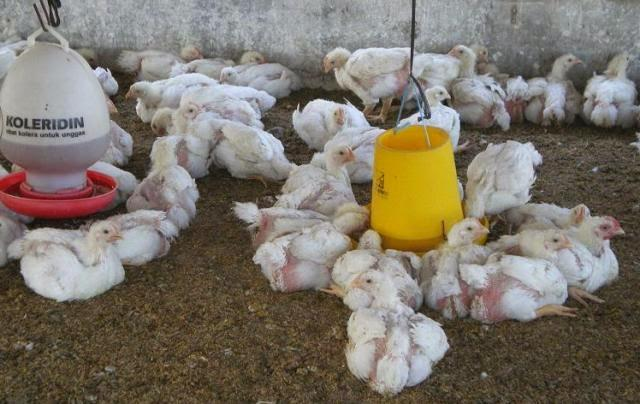chicken: (343, 270, 453, 393), (262, 214, 368, 295), (18, 219, 123, 296), (325, 45, 415, 122), (274, 144, 357, 209), (464, 139, 541, 209), (566, 215, 631, 278), (452, 45, 504, 123), (104, 209, 178, 262), (130, 165, 198, 220), (585, 51, 635, 124), (529, 53, 578, 123), (298, 97, 369, 136), (219, 62, 301, 93), (124, 77, 212, 105), (413, 88, 459, 132)
